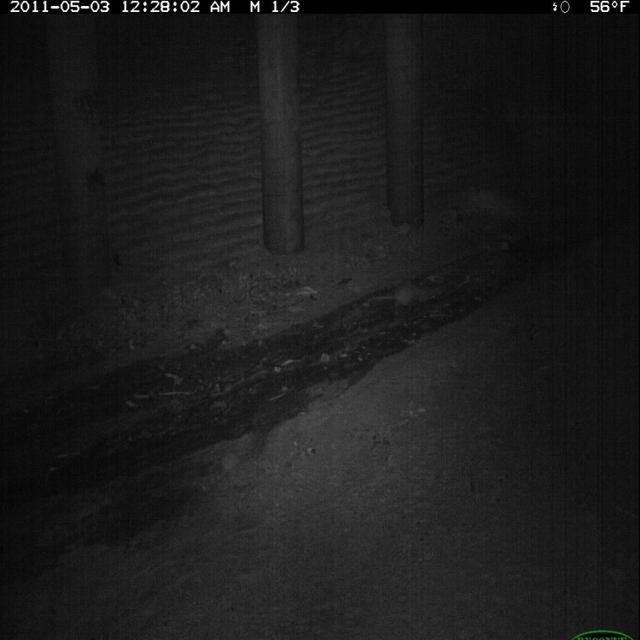opossum: (363, 273, 446, 318)
